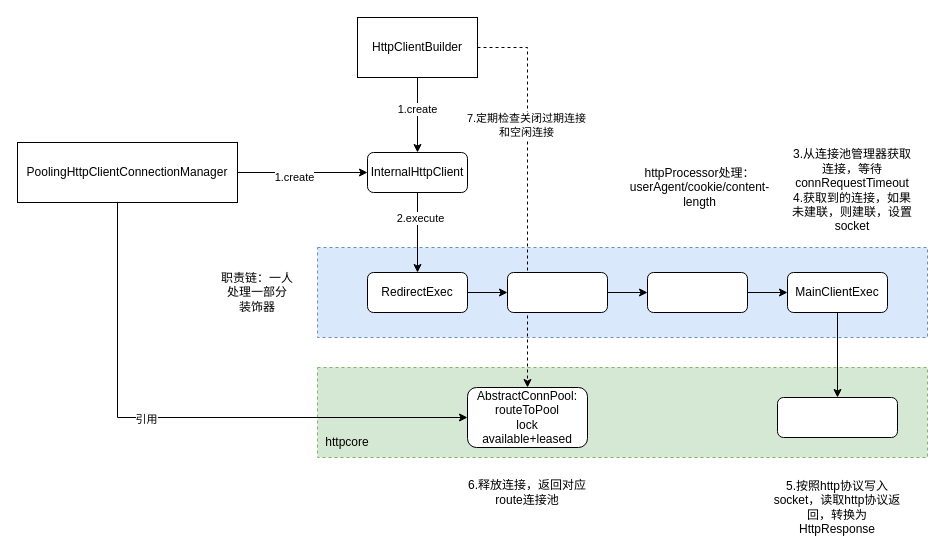
Some shapes in this 945 by 555 pixel diagram are drawn without their labels. Here are the shapes that lost their labels. From the top down, the box of each, then its label:
(506, 272, 608, 312): RetryExec
(646, 272, 748, 312): ProtocolExec
(776, 396, 898, 438): HttpRequestExecutor
